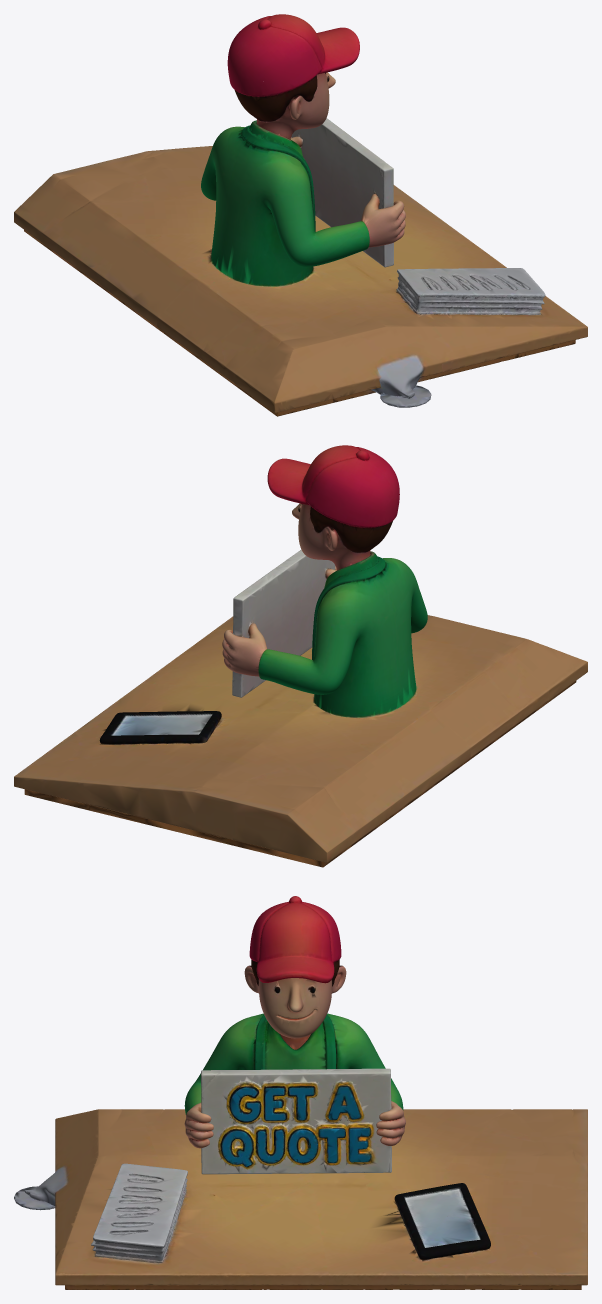
The model's file is character-quote.glb.
3 views of the same model, one above another, from view 1: azimuth 30°, elevation 25°; view 2: azimuth 150°, elevation 25°; view 3: azimuth 270°, elevation 25° (orthographic). The views are drawn at different scales.
Visible parts, largest first — view 1: tripo_node_a6e57bd5-2782-475f-a001-2db7179fec56; view 2: tripo_node_a6e57bd5-2782-475f-a001-2db7179fec56; view 3: tripo_node_a6e57bd5-2782-475f-a001-2db7179fec56.
Part boxes in pixels (x1,y1,x2,y2): tripo_node_a6e57bd5-2782-475f-a001-2db7179fec56: (14, 14, 587, 416); tripo_node_a6e57bd5-2782-475f-a001-2db7179fec56: (14, 445, 587, 867); tripo_node_a6e57bd5-2782-475f-a001-2db7179fec56: (14, 896, 587, 1289).
Bounding box in the file's own units: 0.6316 × 0.5562 × 0.9812.
Materials: 1 (1 with a texture image).
